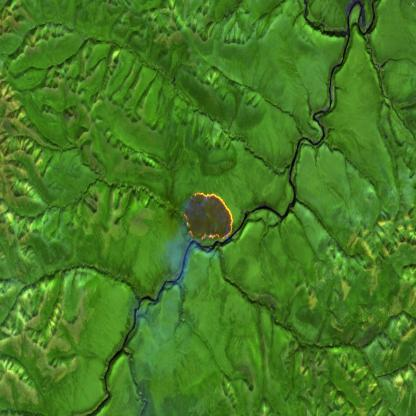fire: (183, 186, 236, 248)
